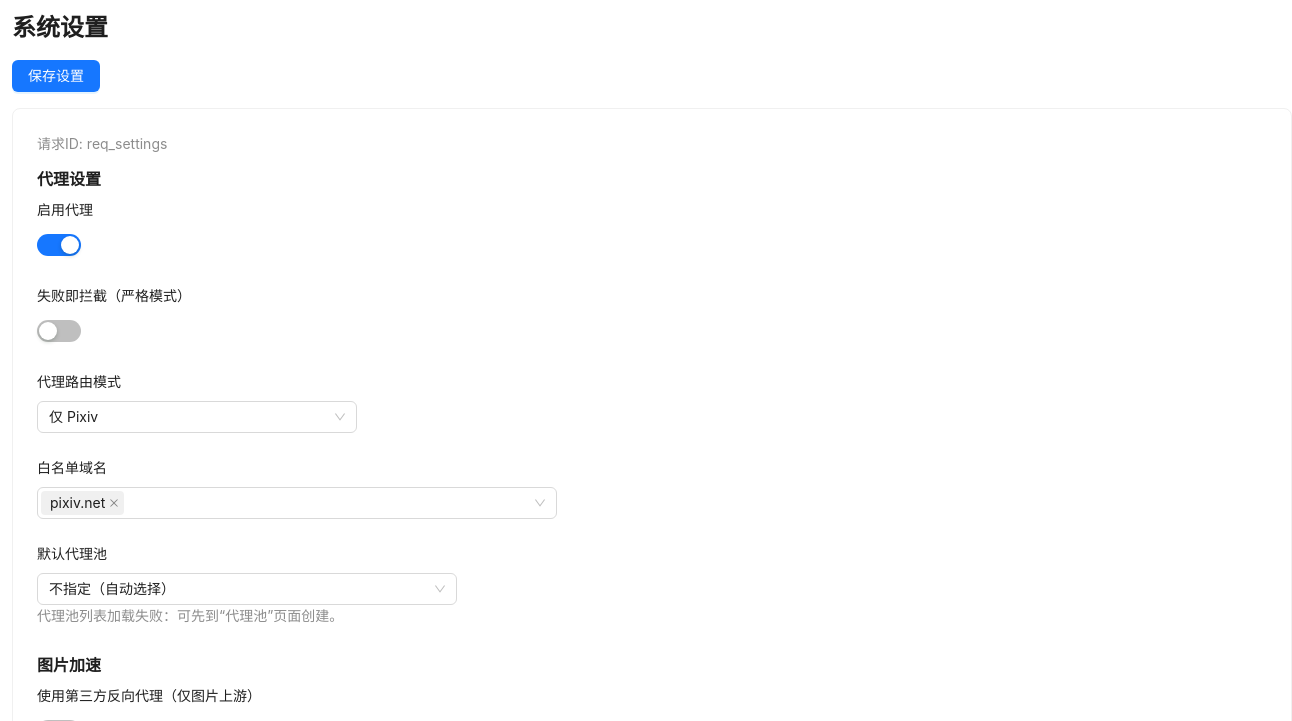
it: SettingsPage › saves settings
Expected: the heading "系统设置" is shown, [12, 13, 108, 42]
Expected: the text "请求ID: req_settings" is shown, [37, 135, 167, 152]
Click the button "保存设置": (56,76) [12, 60, 100, 92]
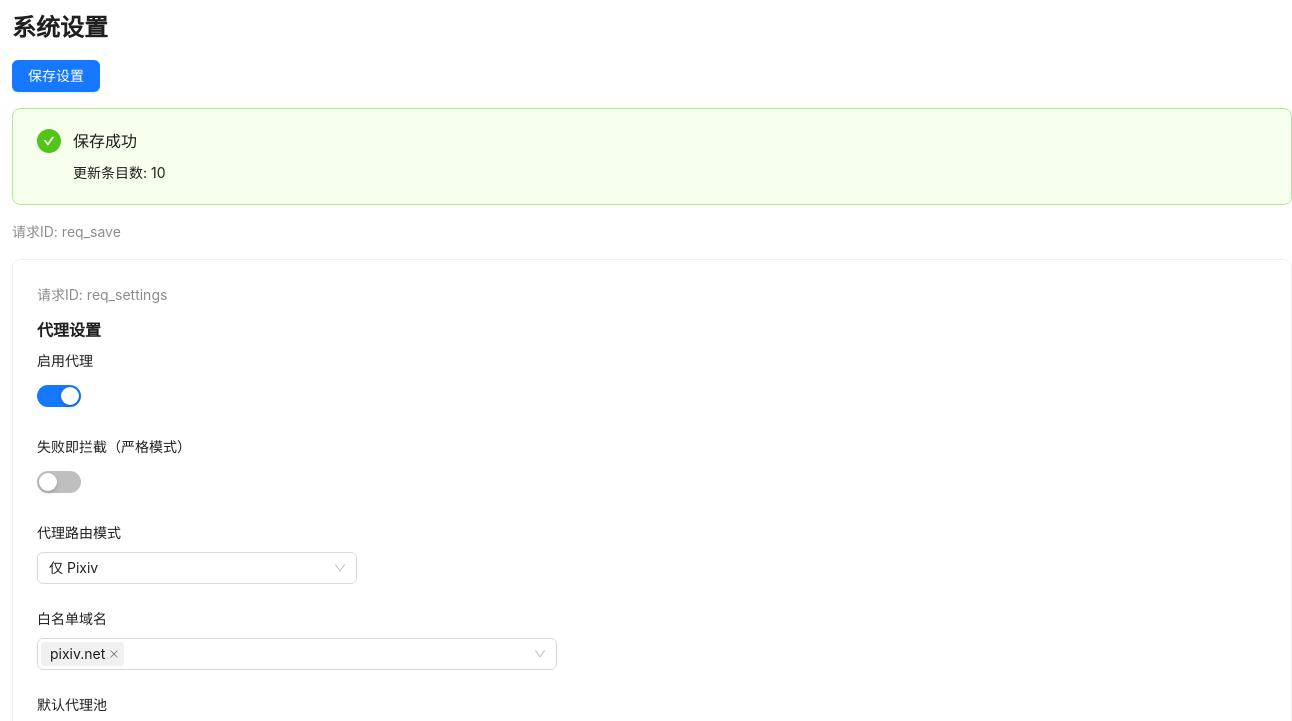
Result: the text "保存成功" is shown at [73, 131, 137, 151]
Result: the text "更新条目数: 10" is shown at [73, 164, 166, 181]
Result: the text "请求ID: req_save" is shown at [12, 223, 121, 240]
